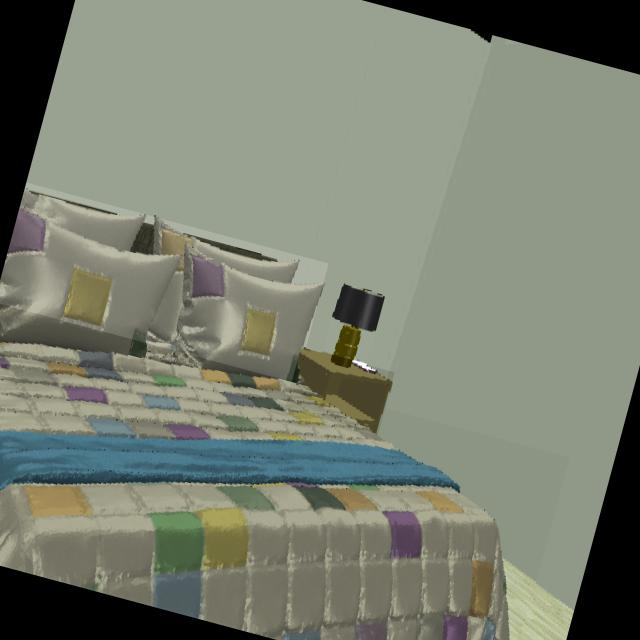bed: (0, 343, 508, 640)
lamp: (331, 284, 384, 367)
nighttable: (297, 350, 391, 433)
pillow: (0, 189, 322, 379)
